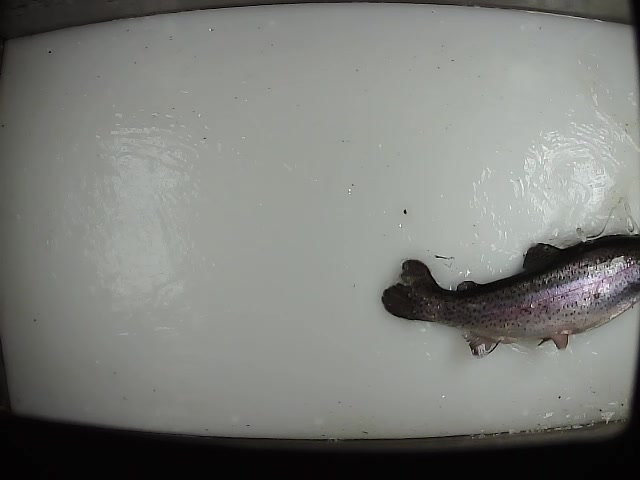fish: (380, 226, 640, 360)
